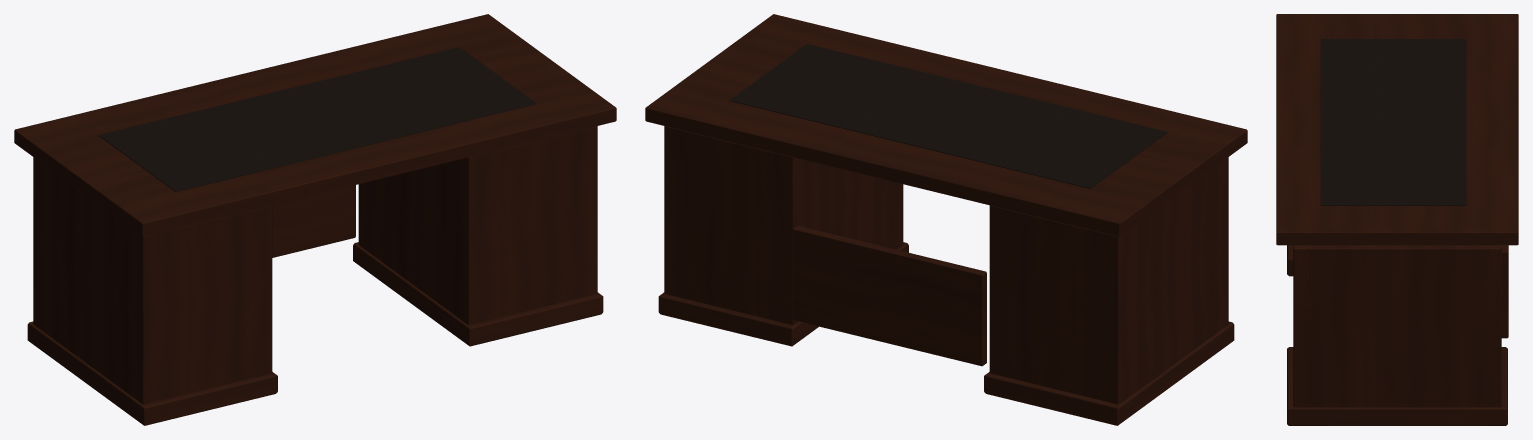
Rendered from executive_lod2.glb.
3 renders of one model, left to right at view 1: azimuth 30°, elevation 25°; view 2: azimuth 150°, elevation 25°; view 3: azimuth 270°, elevation 25°, orthographic. The views are drawn at different scales.
Visible parts, largest first — view 1: BATCH_Desk_Luxury_LOD2_Desk_Luxury_Body, BATCH_Desk_Luxury_LOD2_Desk_Luxury_Surface, BATCH_Desk_Luxury_LOD2_Desk_Luxury_Leather; view 2: BATCH_Desk_Luxury_LOD2_Desk_Luxury_Body, BATCH_Desk_Luxury_LOD2_Desk_Luxury_Surface, BATCH_Desk_Luxury_LOD2_Desk_Luxury_Leather; view 3: BATCH_Desk_Luxury_LOD2_Desk_Luxury_Body, BATCH_Desk_Luxury_LOD2_Desk_Luxury_Surface, BATCH_Desk_Luxury_LOD2_Desk_Luxury_Leather.
Boxes of the visible parts, x1,y1,x2,y2 form: BATCH_Desk_Luxury_LOD2_Desk_Luxury_Body: [27, 126, 603, 425]; BATCH_Desk_Luxury_LOD2_Desk_Luxury_Surface: [14, 14, 616, 236]; BATCH_Desk_Luxury_LOD2_Desk_Luxury_Leather: [98, 47, 536, 191]; BATCH_Desk_Luxury_LOD2_Desk_Luxury_Body: [658, 126, 1234, 425]; BATCH_Desk_Luxury_LOD2_Desk_Luxury_Surface: [645, 14, 1247, 236]; BATCH_Desk_Luxury_LOD2_Desk_Luxury_Leather: [729, 44, 1167, 188]; BATCH_Desk_Luxury_LOD2_Desk_Luxury_Body: [1287, 245, 1508, 425]; BATCH_Desk_Luxury_LOD2_Desk_Luxury_Surface: [1276, 14, 1518, 245]; BATCH_Desk_Luxury_LOD2_Desk_Luxury_Leather: [1320, 39, 1466, 205].
Bounding box in the file's own units: 1.92 × 0.813 × 0.9.
3 materials, 3 textured.
